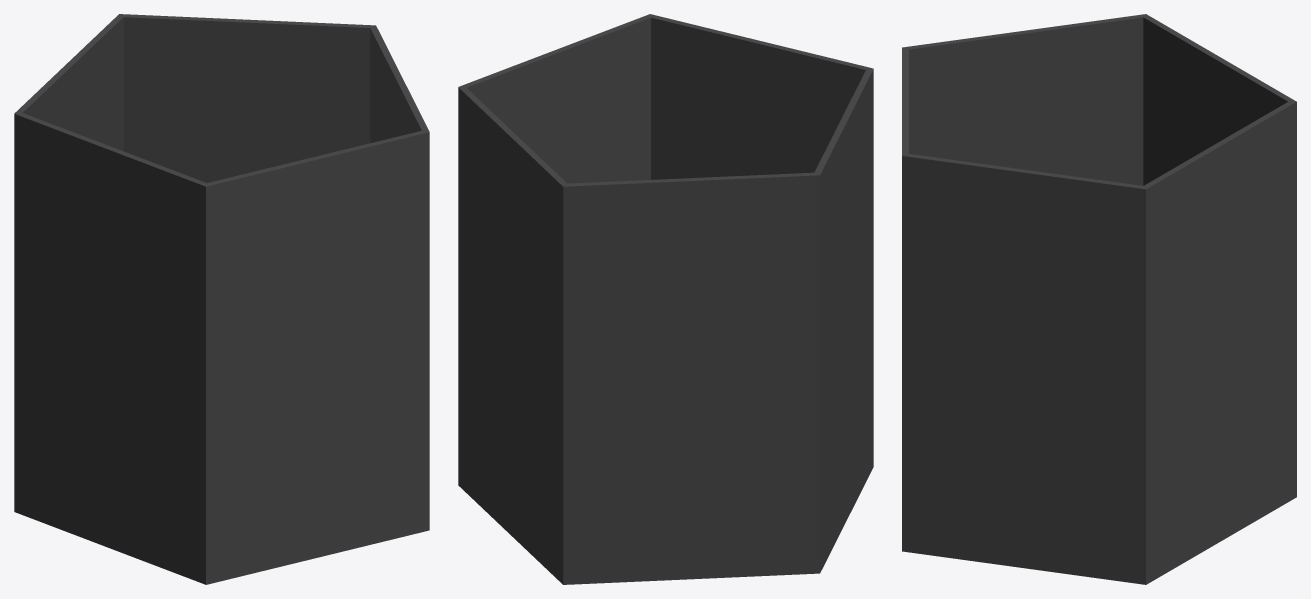
File: cup.fbx
The picture shows the model from 3 angles, left to right: view 1: azimuth 30°, elevation 25°; view 2: azimuth 150°, elevation 25°; view 3: azimuth 270°, elevation 25°; orthographic projection.
Parts seen in each view (by area): view 1: Cup; view 2: Cup; view 3: Cup.
Part boxes in pixels (x1=…): Cup: x1=14, y1=14, x2=429, y2=584; Cup: x1=458, y1=14, x2=873, y2=584; Cup: x1=902, y1=14, x2=1296, y2=584.
Bounding box in the file's own units: 110 × 116 × 105.
